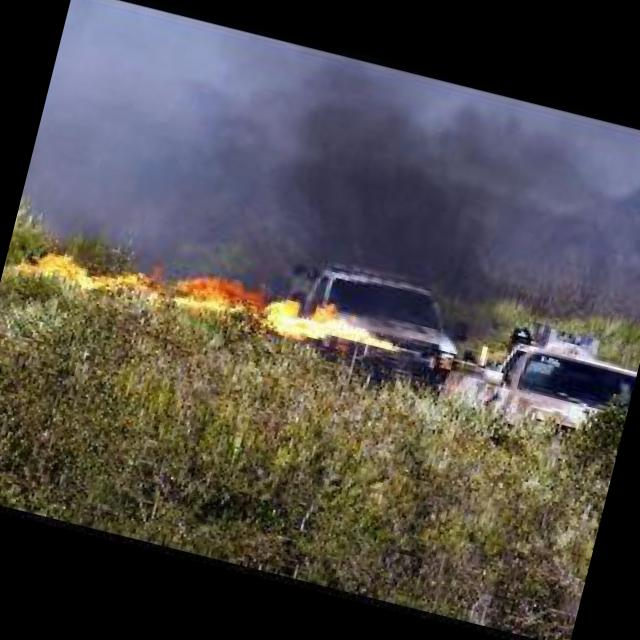fire: (9, 226, 414, 375)
smoke: (237, 74, 544, 343)
